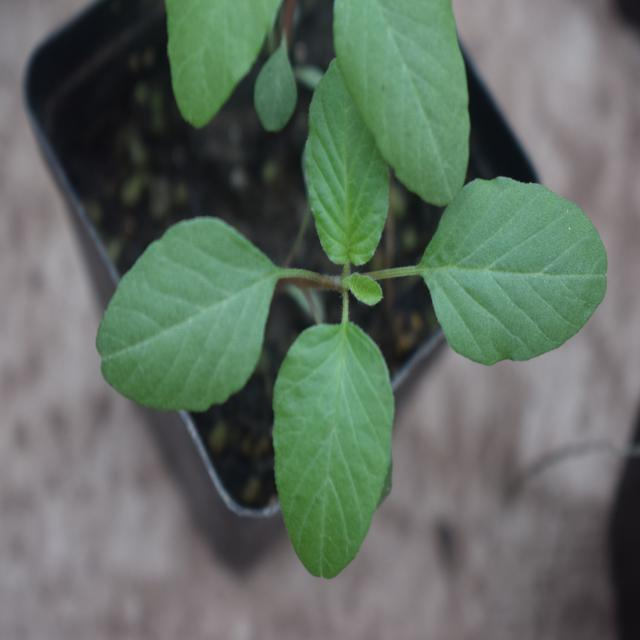pigweed: (112, 46, 589, 544)
